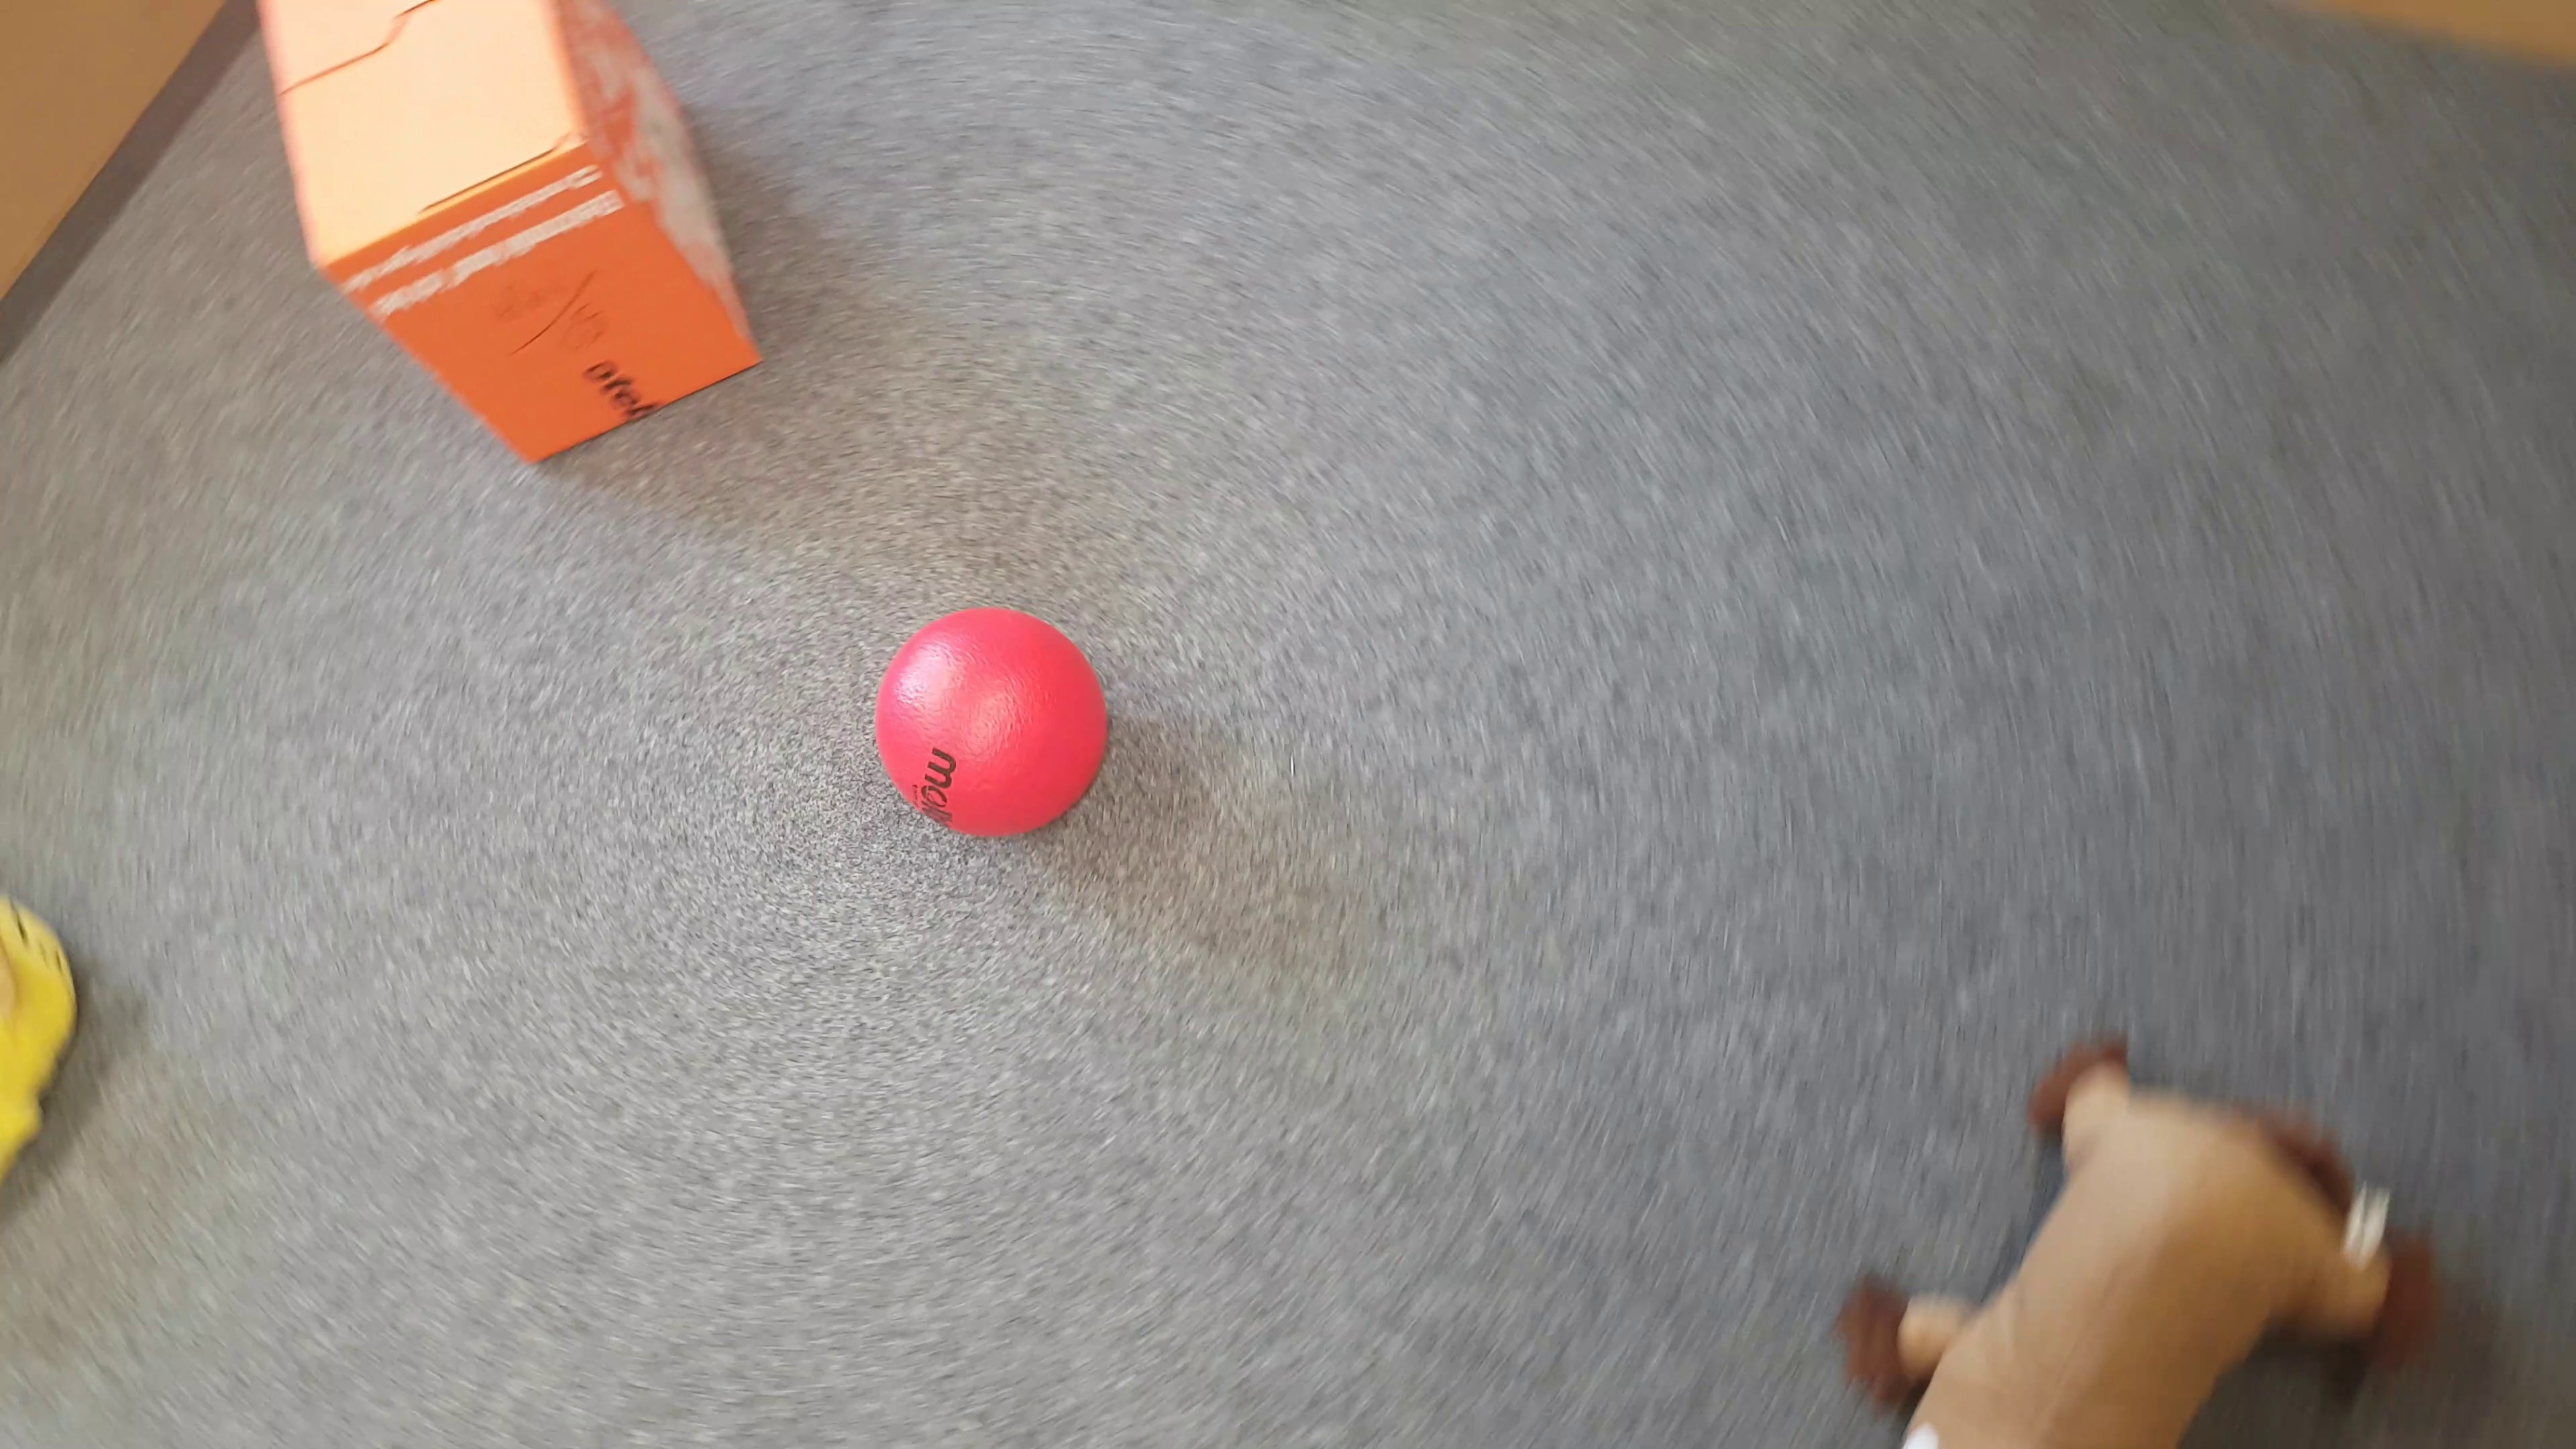grasp: (1835, 1040, 2443, 1449), (4, 899, 88, 1198)
kick: (869, 605, 1115, 835)
push: (262, 4, 757, 472)
